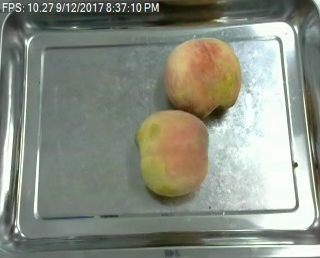Peach: (136, 107, 209, 198), (163, 36, 242, 116)
